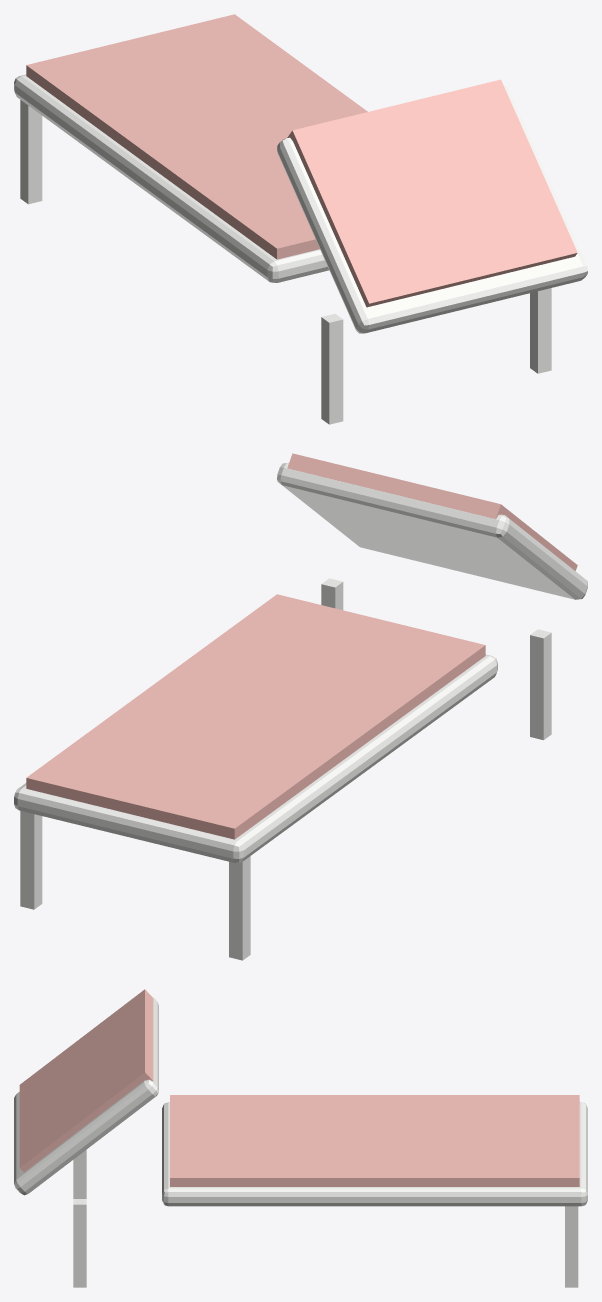
The model's file is espreguicadeira.glb.
3 views of the same model, one above another, from view 1: azimuth 30°, elevation 25°; view 2: azimuth 150°, elevation 25°; view 3: azimuth 270°, elevation 25° (orthographic). The views are drawn at different scales.
Visible parts, largest first — view 1: espreguicadeira; view 2: espreguicadeira; view 3: espreguicadeira.
Boxes of the visible parts, x1,y1,x2,y2 form: espreguicadeira: [14, 14, 587, 424]; espreguicadeira: [14, 453, 587, 960]; espreguicadeira: [14, 989, 587, 1287].
Size of the model in its own units: 0.66 by 0.7164 by 1.75.
